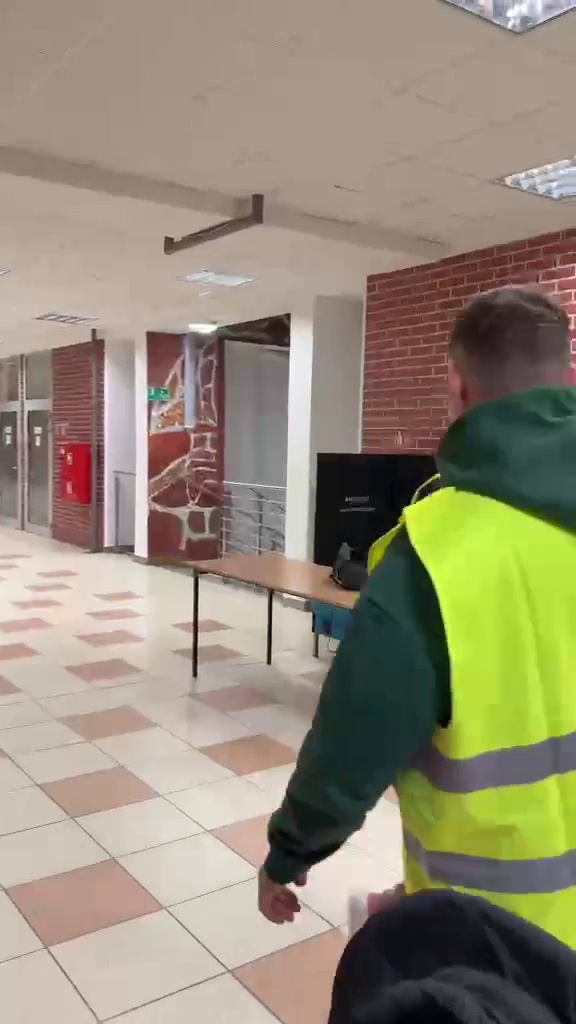vest: (268, 286, 575, 940)
